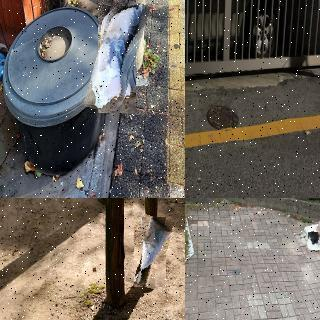Garbage: (90, 0, 143, 114), (130, 216, 170, 288), (306, 231, 320, 250)
